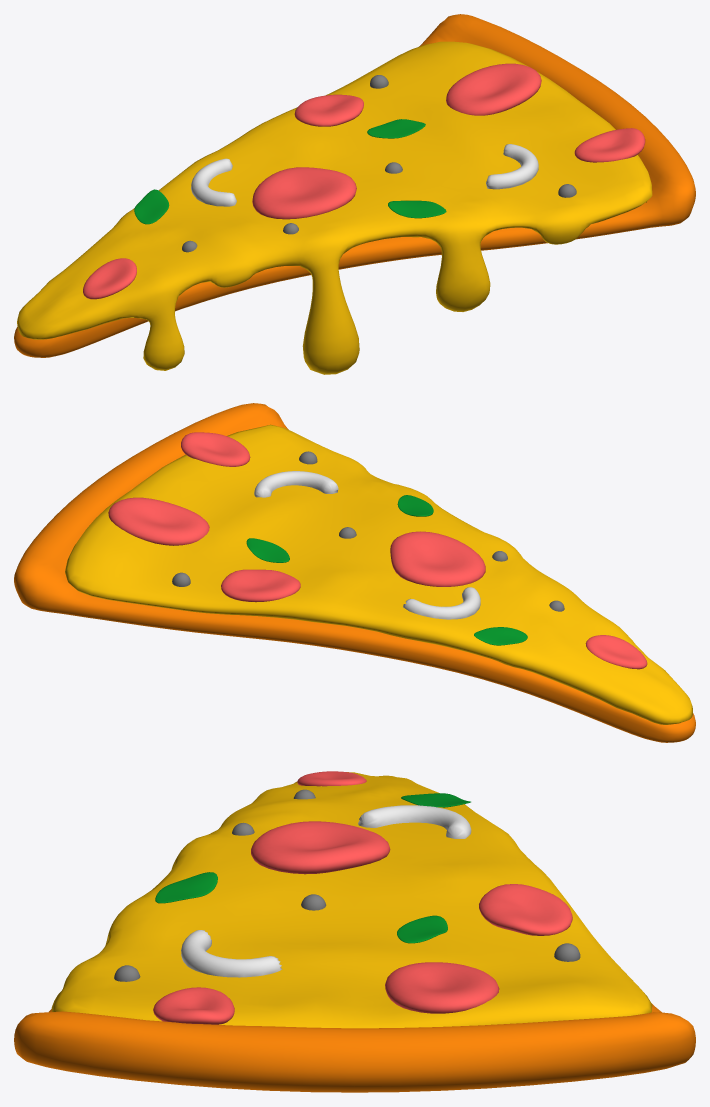
File: pizza.glb
3 renders of one model, top to bottom at view 1: azimuth 30°, elevation 25°; view 2: azimuth 150°, elevation 25°; view 3: azimuth 270°, elevation 25°, orthographic. The views are drawn at different scales.
Visible parts, largest first — view 1: Plane.001, Plane, Sphere, Sphere.001, Sphere.003, Sphere.002, Sphere.004, Torus.001, Torus, Plane.003, Plane.004, Plane.002; view 2: Plane.001, Plane, Sphere, Sphere.001, Sphere.002, Sphere.003, Sphere.004, Torus.001, Torus, Plane.003, Plane.002, Plane.004; view 3: Plane.001, Plane, Sphere, Sphere.001, Sphere.002, Sphere.003, Torus.001, Torus, Plane.004, Plane.002, Sphere.004, Plane.003.
Part boxes in pixels (<box>): Plane.001: <box>17,41,652,374</box>; Plane: <box>14,14,695,357</box>; Sphere: <box>252,167,356,219</box>; Sphere.001: <box>446,63,541,115</box>; Sphere.003: <box>574,128,645,162</box>; Sphere.002: <box>294,94,363,126</box>; Sphere.004: <box>83,258,136,299</box>; Torus.001: <box>486,144,538,189</box>; Torus: <box>191,158,236,206</box>; Plane.003: <box>134,189,169,224</box>; Plane.004: <box>388,200,446,218</box>; Plane.002: <box>367,119,425,138</box>; Plane.001: <box>65,424,692,724</box>; Plane: <box>14,403,695,742</box>; Sphere: <box>390,531,485,586</box>; Sphere.001: <box>108,497,209,545</box>; Sphere.002: <box>221,569,300,602</box>; Sphere.003: <box>181,432,250,466</box>; Sphere.004: <box>585,635,647,669</box>; Torus.001: <box>254,471,338,497</box>; Torus: <box>403,587,480,619</box>; Plane.003: <box>474,627,527,645</box>; Plane.002: <box>246,538,289,562</box>; Plane.004: <box>397,495,433,516</box>; Plane.001: <box>51,772,652,1028</box>; Plane: <box>14,1003,695,1092</box>; Sphere: <box>251,821,390,874</box>; Sphere.001: <box>385,962,499,1013</box>; Sphere.002: <box>479,884,572,935</box>; Sphere.003: <box>153,987,234,1024</box>; Torus.001: <box>181,930,282,977</box>; Torus: <box>358,805,471,838</box>; Plane.004: <box>155,872,217,903</box>; Plane.002: <box>397,915,447,943</box>; Sphere.004: <box>297,771,366,786</box>; Plane.003: <box>401,793,470,807</box>.
Size of the model in its own units: 7.37 by 1.88 by 5.17.
